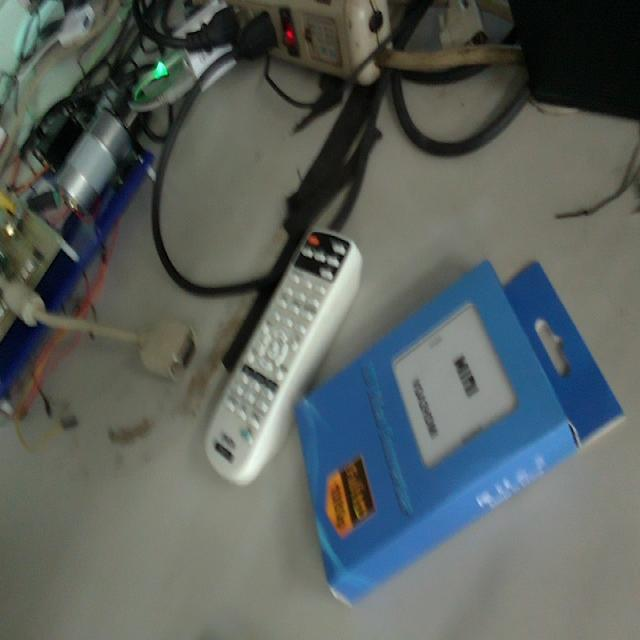remote: (296, 262, 622, 606), (203, 230, 361, 482)
